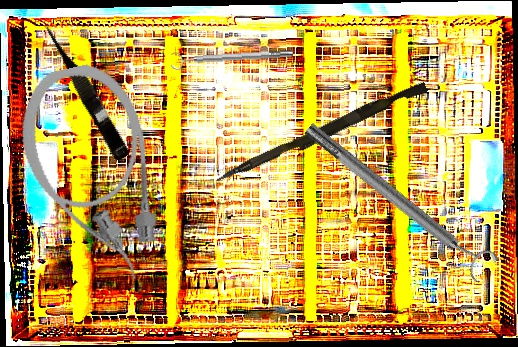Cannula: (8, 55, 176, 297)
Fixation Ring: (297, 111, 501, 287), (170, 44, 294, 71)
Micro Scissor: (37, 16, 134, 162)
Pusher: (214, 75, 429, 192)
